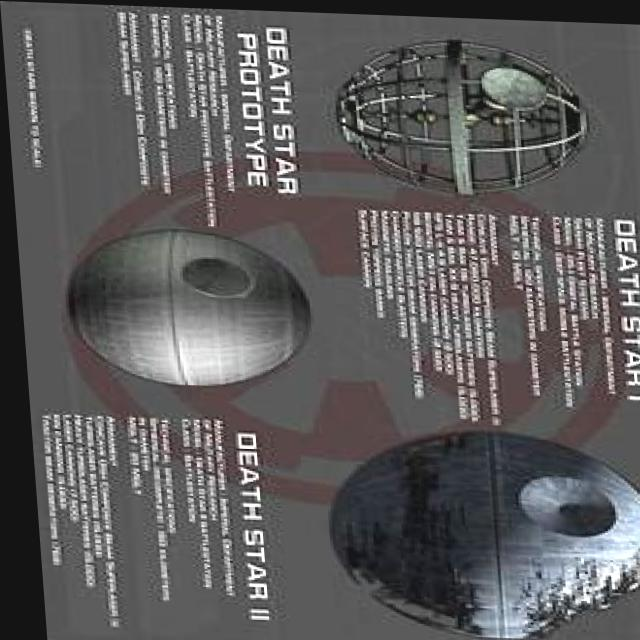deathStar: (316, 422, 640, 640), (60, 223, 306, 384)
